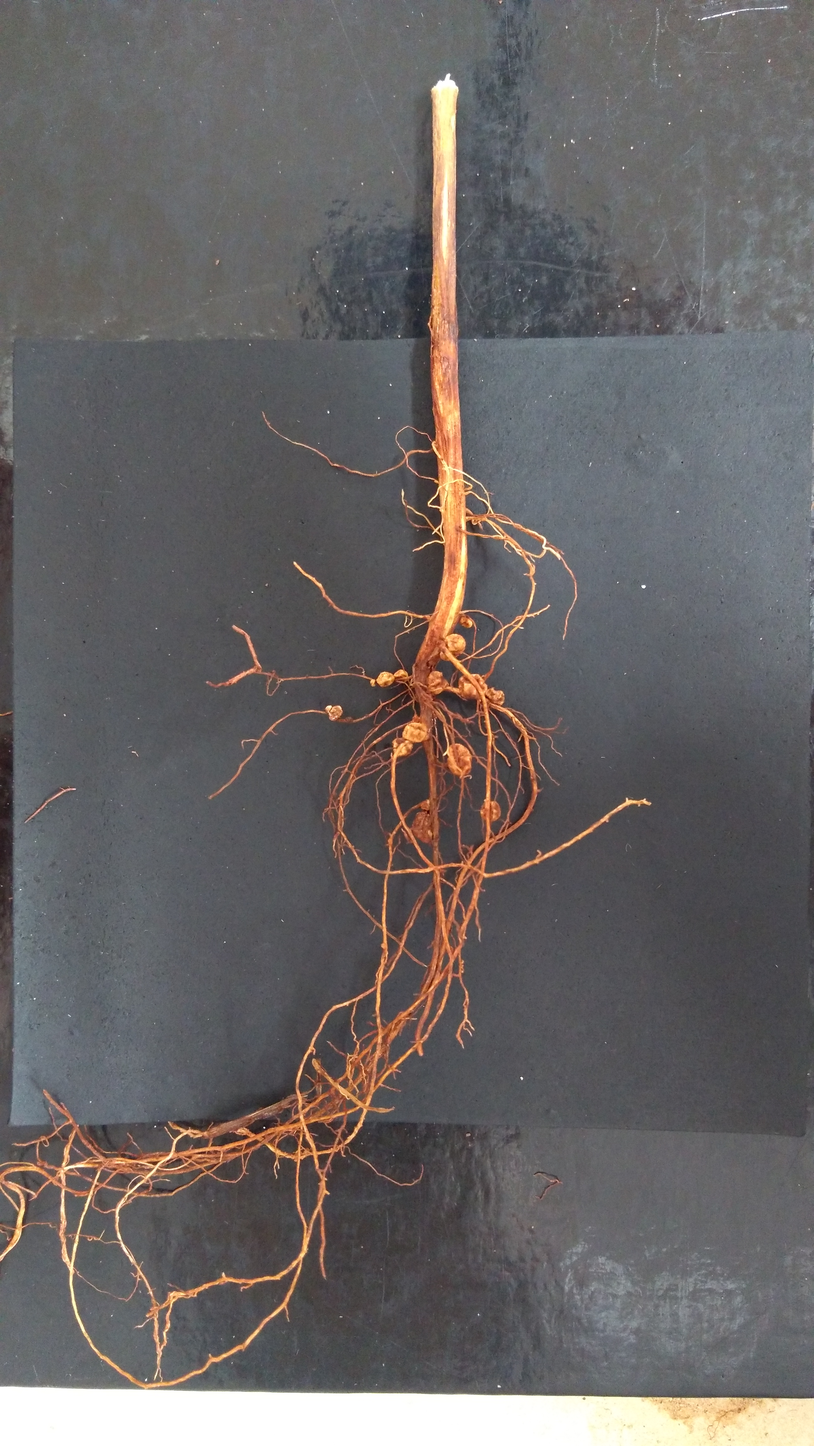nodule: (445, 742, 474, 776), (456, 673, 488, 702), (439, 632, 467, 662), (412, 811, 434, 843), (427, 669, 450, 696), (401, 721, 428, 743), (478, 800, 502, 823), (392, 737, 414, 757), (485, 686, 506, 706), (375, 670, 395, 688), (328, 705, 343, 722), (393, 668, 409, 680), (459, 617, 473, 629), (420, 798, 431, 812), (294, 1149, 302, 1161), (344, 716, 354, 724), (324, 705, 332, 713), (412, 714, 419, 723), (370, 679, 376, 687), (449, 945, 454, 953)
